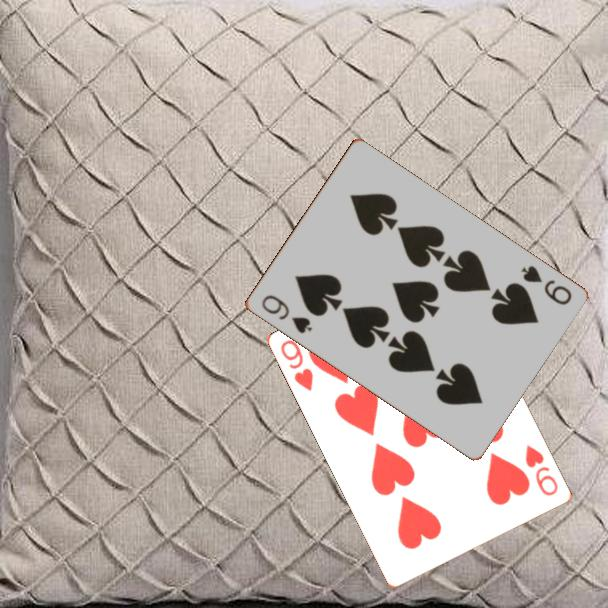h09: (277, 336, 317, 395), (522, 441, 561, 499)
s09: (258, 291, 315, 337), (517, 262, 574, 308)
